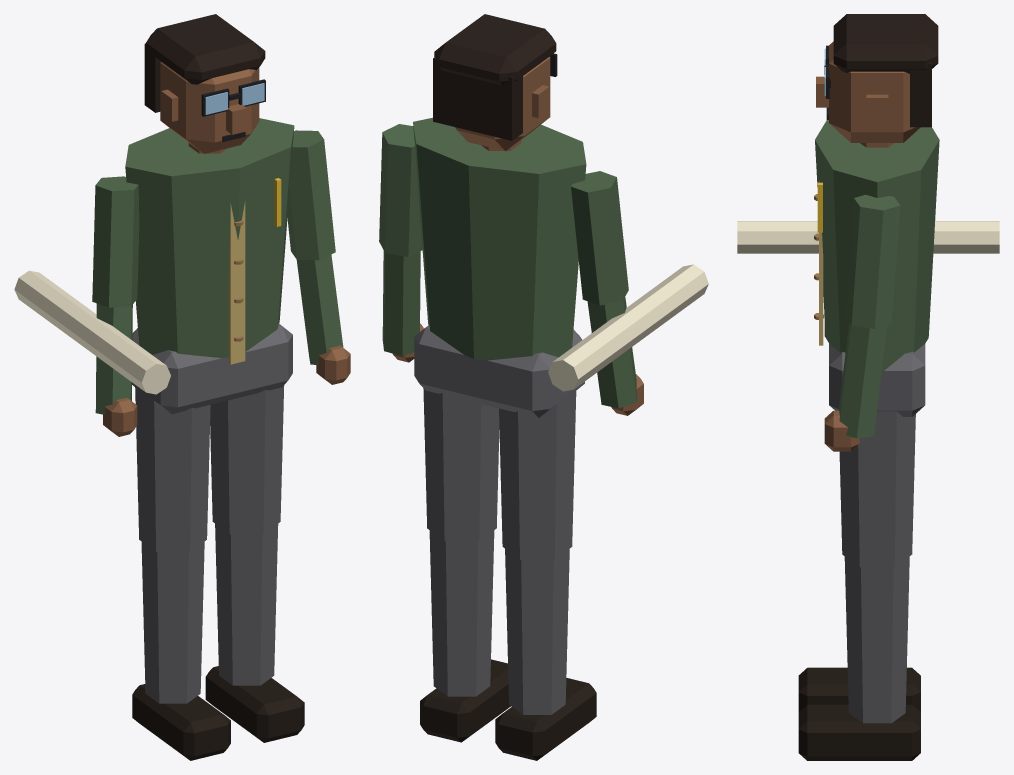
The model's file is person.moss.glb.
The picture shows the model from 3 angles, left to right: view 1: azimuth 30°, elevation 25°; view 2: azimuth 150°, elevation 25°; view 3: azimuth 270°, elevation 25°; orthographic projection. The views are drawn at different scales.
Parts seen in each view (by area): view 1: torso, thigh-1, thigh1, shin-1, shin1, hips, plan-roll, upper-1, hair, upper1, head, shoe1 (+8 smaller); view 2: torso, thigh-1, thigh1, shin1, shin-1, hips, plan-roll, upper-1, hair, hair-back, upper1, shoe-1 (+4 smaller); view 3: torso, thigh1, shin1, upper1, shoe1, hair, head, plan-roll, fore1, hips, shoe-1, hair-back (+3 smaller).
Boxes of the visible parts, x1,y1,x2,y2 form: torso: (125, 118, 294, 357); thigh-1: (135, 387, 210, 551); thigh1: (210, 385, 284, 534); shin-1: (141, 542, 204, 703); shin1: (215, 524, 278, 685); hips: (132, 323, 292, 413); plan-roll: (14, 270, 170, 394); upper-1: (92, 176, 139, 307); hair: (146, 14, 265, 84); upper1: (287, 130, 335, 260); head: (160, 62, 259, 153); shoe1: (205, 666, 304, 742); torso: (413, 117, 586, 360); thigh-1: (499, 390, 576, 559); thigh1: (423, 388, 499, 540); shin1: (429, 530, 494, 696); shin-1: (505, 549, 569, 714); hips: (414, 325, 584, 417); plan-roll: (548, 264, 708, 391); upper-1: (571, 171, 628, 305); hair: (434, 14, 556, 85); hair-back: (433, 57, 522, 140); upper1: (379, 124, 422, 256); shoe-1: (495, 678, 596, 760); torso: (815, 120, 939, 371); thigh1: (839, 411, 915, 567); shin1: (844, 556, 909, 723); upper1: (845, 194, 900, 328); shoe1: (798, 704, 920, 760); hair: (833, 14, 938, 73); head: (829, 41, 920, 142); plan-roll: (737, 221, 999, 253); fore1: (838, 322, 886, 438); hips: (829, 343, 925, 416); shoe-1: (798, 667, 920, 712); hair-back: (910, 62, 931, 127).
Bounding box in the file's own units: 0.7073 × 1.78 × 0.6.
